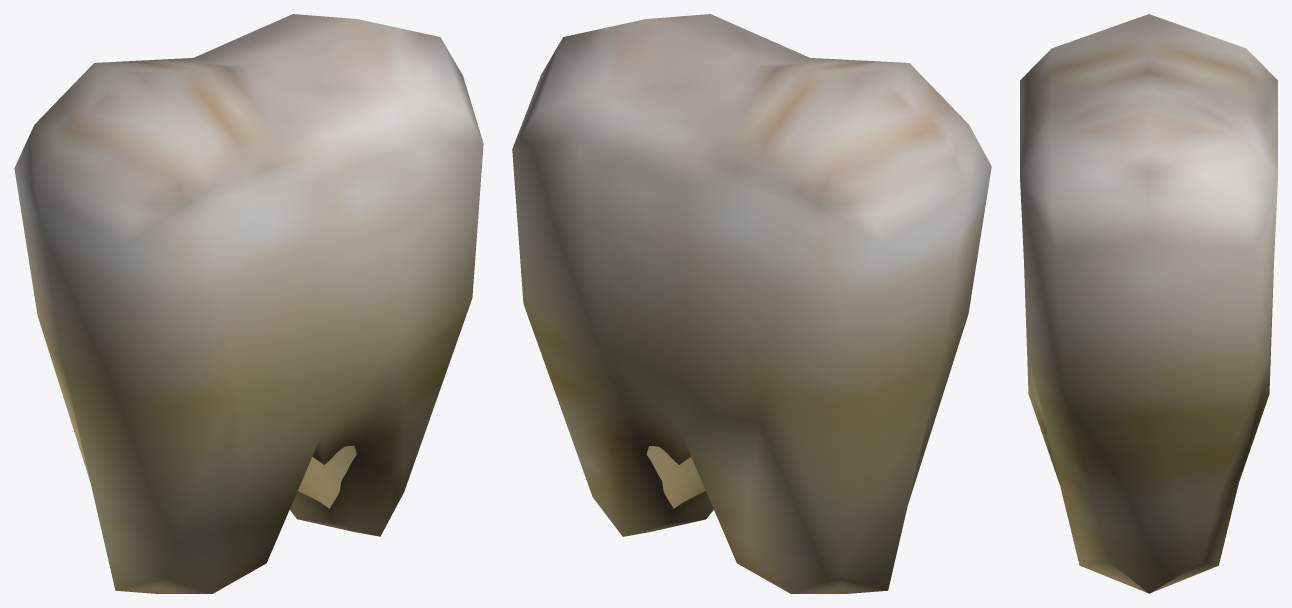
Rendered from pulled_tooth.FBX.
3 renders of one model, left to right at view 1: azimuth 30°, elevation 25°; view 2: azimuth 150°, elevation 25°; view 3: azimuth 270°, elevation 25°, orthographic. The views are drawn at different scales.
Visible parts, largest first — view 1: pulled_tooth; view 2: pulled_tooth; view 3: pulled_tooth.
Part boxes in pixels (x1,y1,x2,y2): pulled_tooth: (14,14,483,593); pulled_tooth: (512,14,991,593); pulled_tooth: (1020,14,1277,593).
Bounding box in the file's own units: 4.86 × 5.73 × 2.72.
